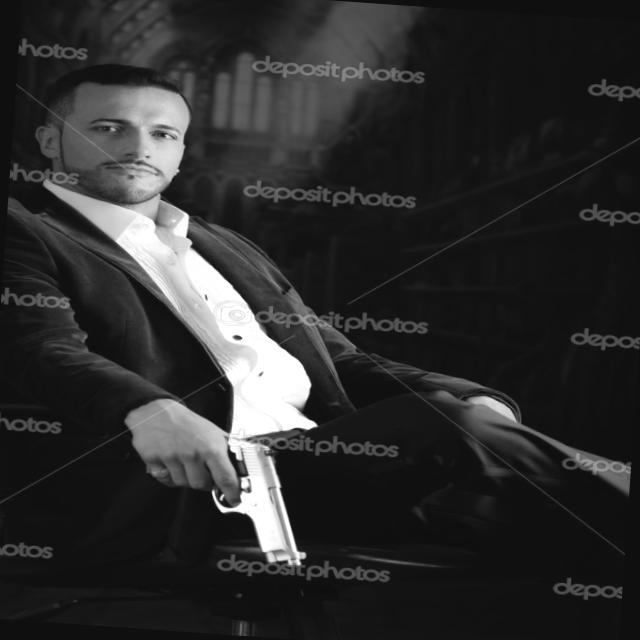handgun: (122, 419, 330, 573)
